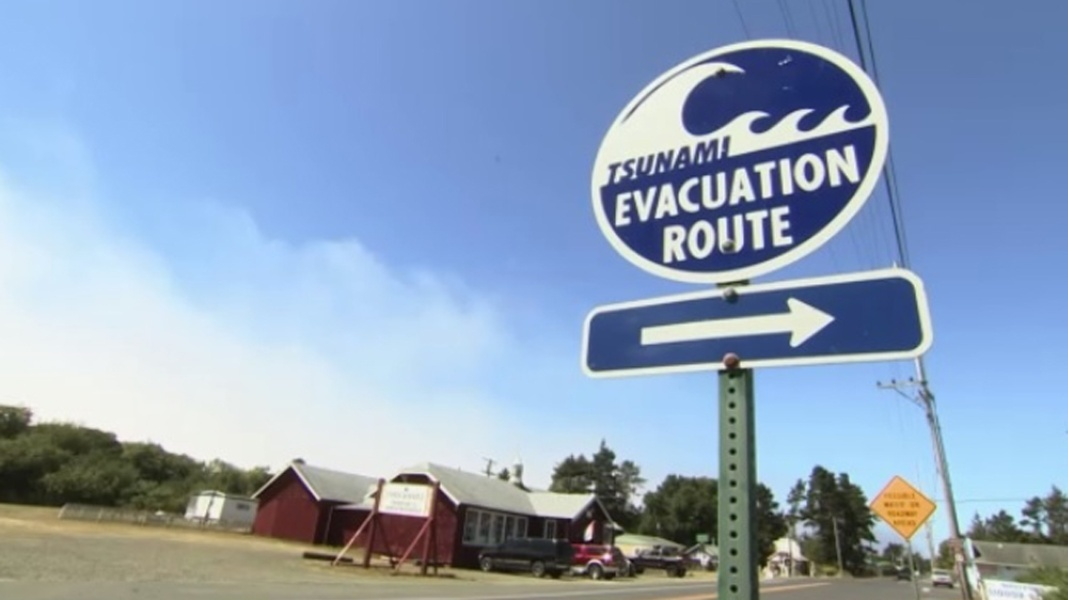text: (625, 142, 640, 229), (641, 142, 656, 229), (657, 142, 672, 229), (673, 142, 688, 229), (689, 142, 704, 229), (705, 142, 720, 229), (721, 142, 736, 229), (737, 142, 752, 229), (753, 142, 768, 229), (769, 142, 784, 229), (785, 142, 800, 229), (801, 142, 816, 229), (817, 142, 832, 229), (833, 142, 848, 229), (849, 142, 861, 229), (673, 203, 688, 264), (689, 203, 704, 264), (705, 203, 720, 264), (721, 203, 736, 264), (737, 203, 752, 264), (753, 203, 768, 264), (769, 203, 784, 264), (609, 133, 624, 187), (625, 133, 640, 187), (641, 133, 656, 187), (657, 133, 672, 187), (673, 133, 688, 187), (689, 133, 704, 187), (705, 133, 720, 187), (616, 142, 624, 229), (662, 203, 672, 264), (785, 203, 795, 264), (721, 133, 732, 187), (897, 491, 912, 501), (897, 500, 912, 510), (897, 518, 912, 528), (882, 491, 896, 501), (884, 500, 896, 510), (897, 510, 912, 518), (913, 500, 922, 510), (887, 510, 896, 518), (607, 133, 608, 187), (913, 491, 918, 501), (913, 518, 918, 528), (913, 510, 919, 518), (892, 518, 896, 528)
